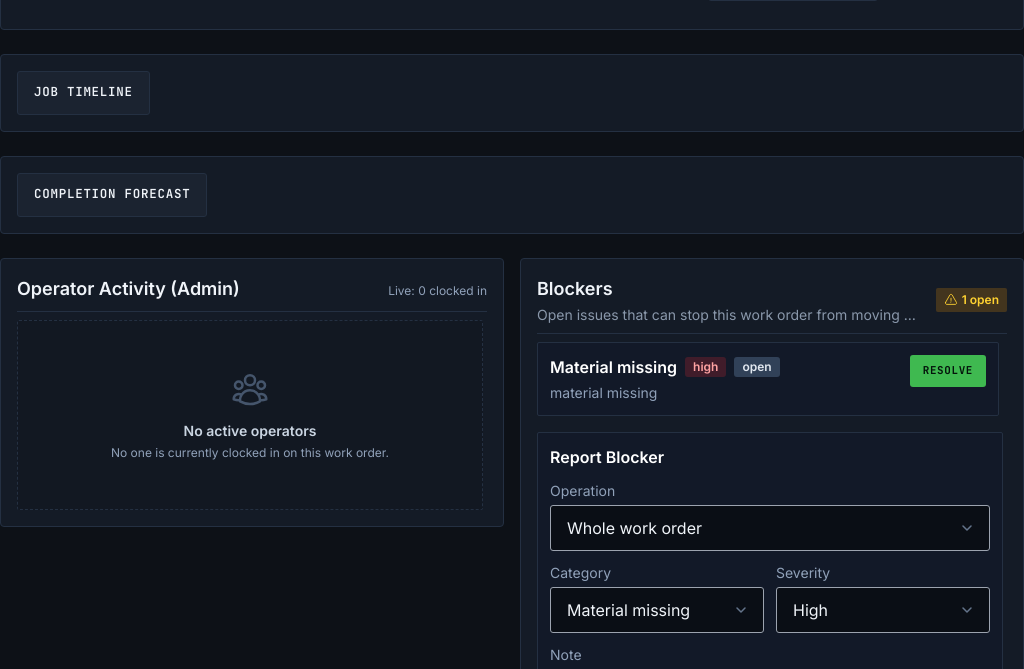
Scenario: WorkOrderDetail resolve-blocker InputDialog › opens the dialog naming the blocker with the default "Resolved" note
(page scrolled)
Click the button "Resolve".
click(948, 370)  # box [910, 354, 986, 386]
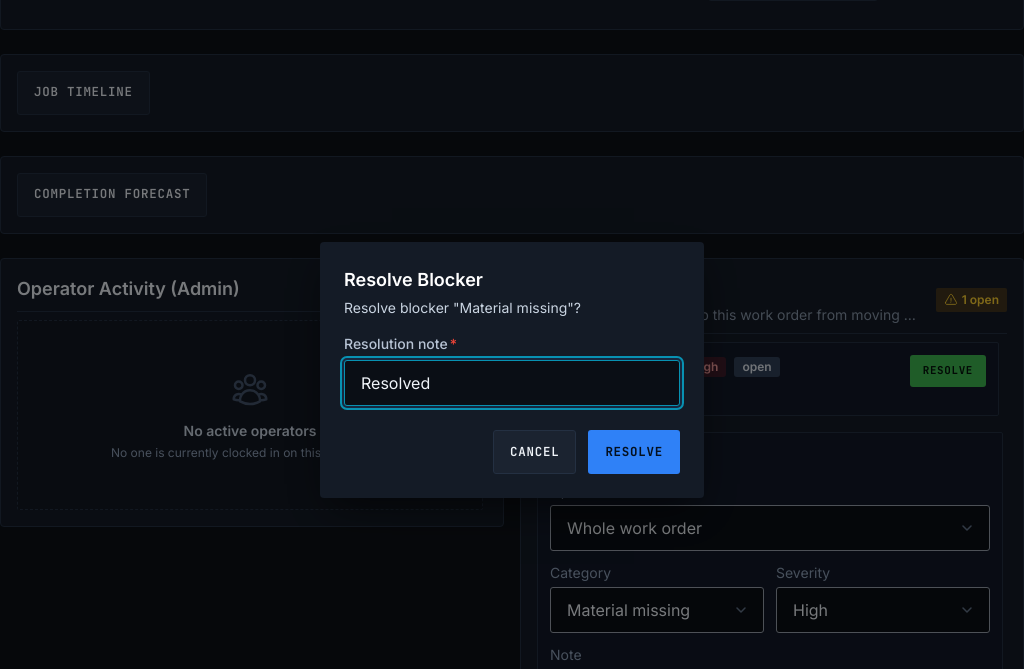
Expected: the heading "Resolve Blocker" is shown, [344, 269, 483, 290]
Expected: the text "Resolve blocker \"Material missing\"?" is shown, [344, 299, 581, 316]
Expected: the field labelled "Resolution note*" holds "Resolved", [344, 360, 680, 406]
